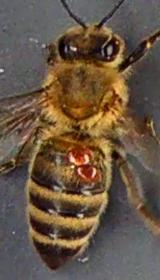varroa_mite: (65, 164, 107, 188), (64, 141, 100, 165)
